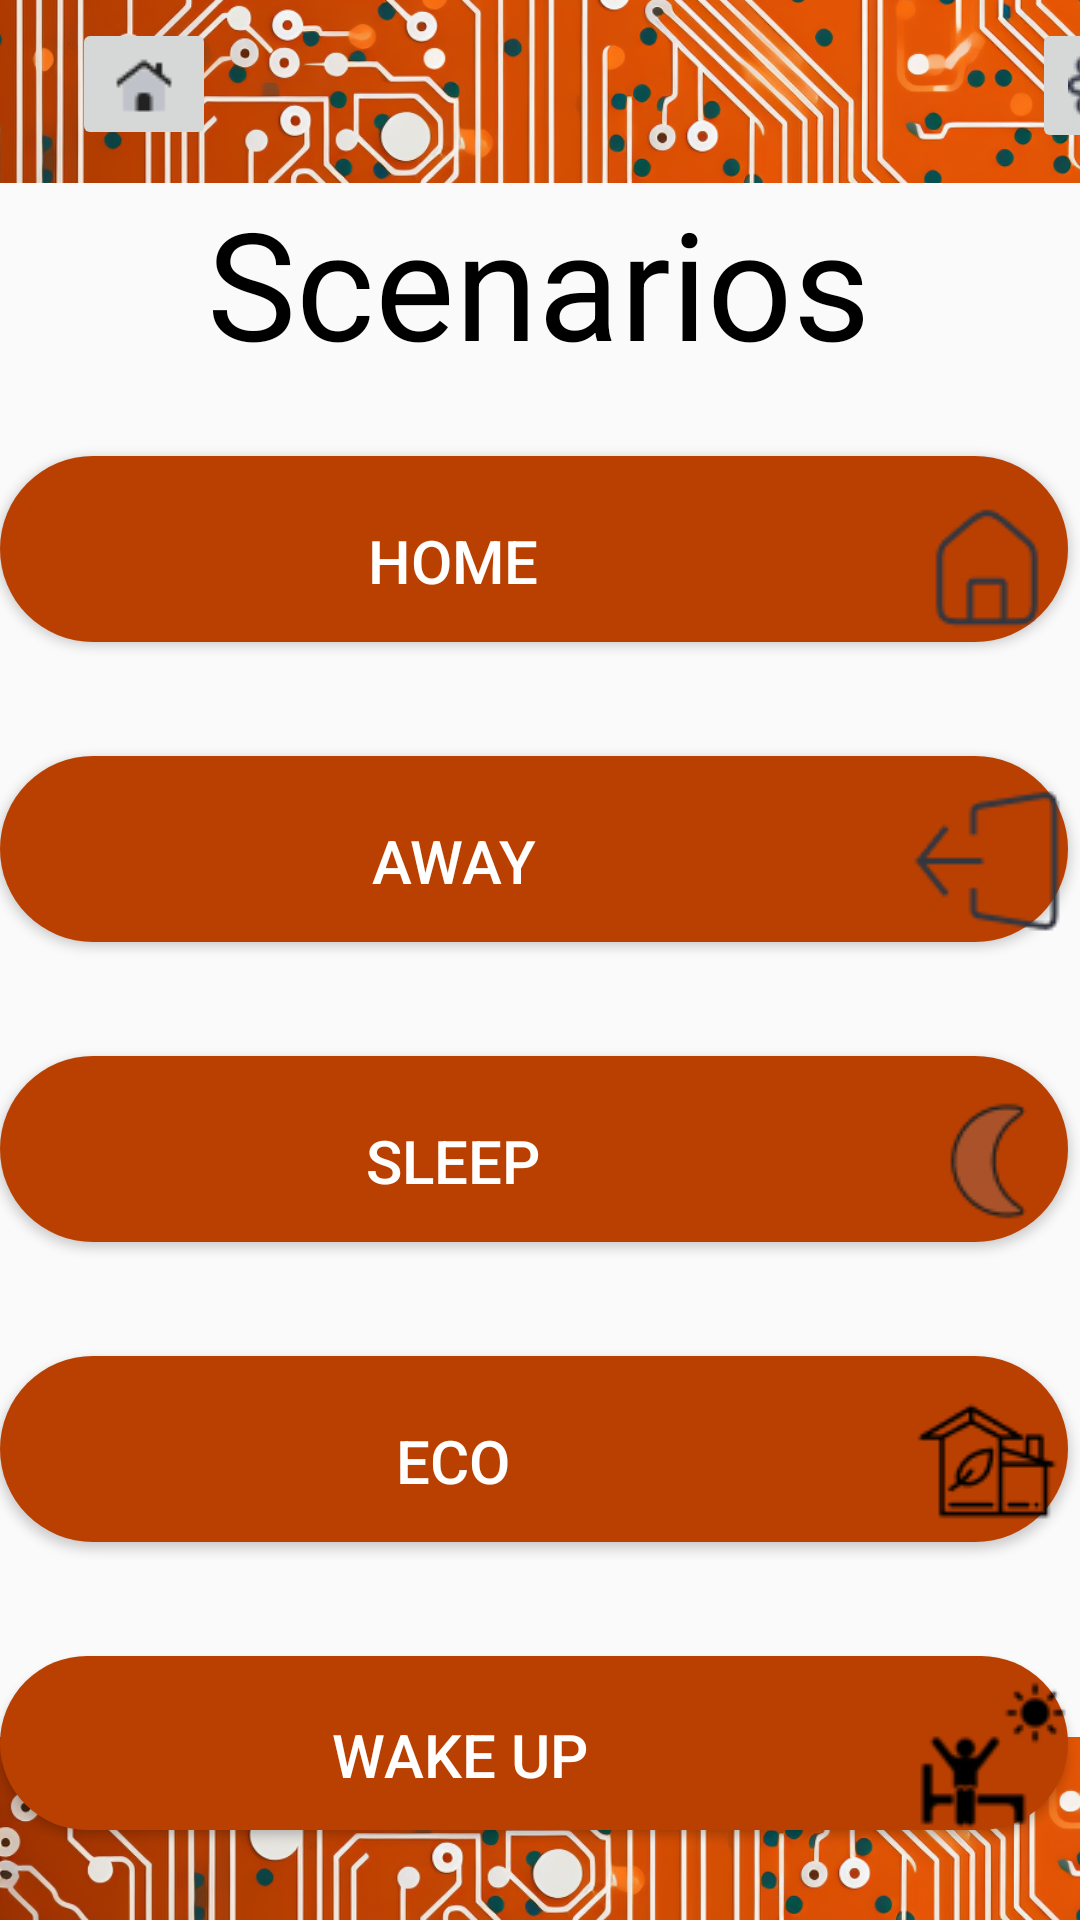

Icon bounding boxes for this 1080 x 1920 phone screenshot, format region(x1, y1, x2, y2):
home duotone: region(77, 18, 216, 150)
